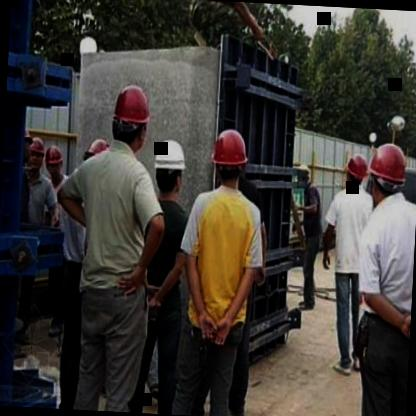helmet: (106, 76, 156, 156), (205, 119, 253, 196), (363, 137, 411, 205), (151, 132, 185, 198), (343, 150, 372, 190), (26, 136, 46, 176), (43, 142, 63, 180)
